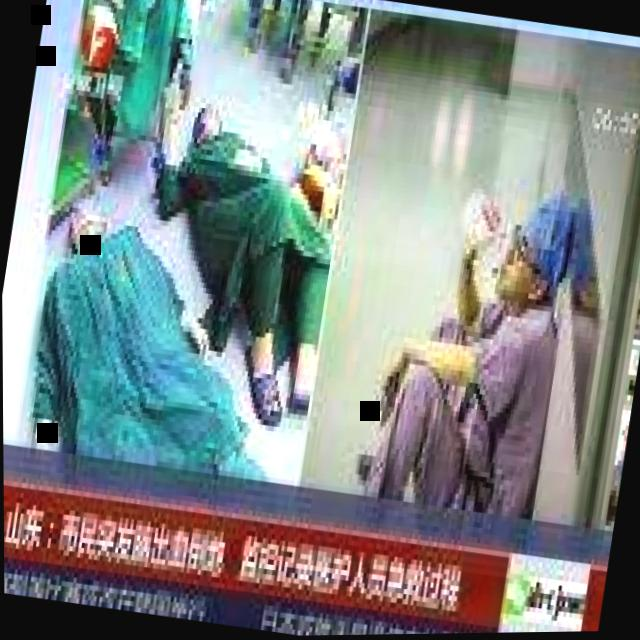Fall-Detected: (2, 120, 330, 492)
